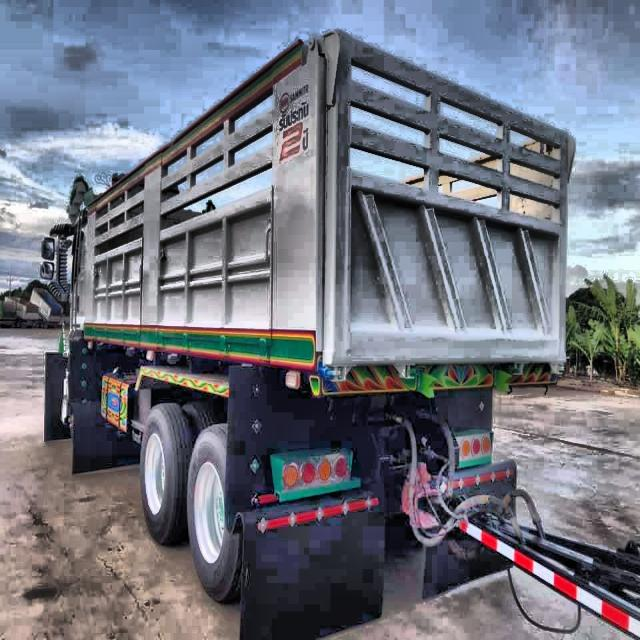trailer: (46, 29, 640, 639)
